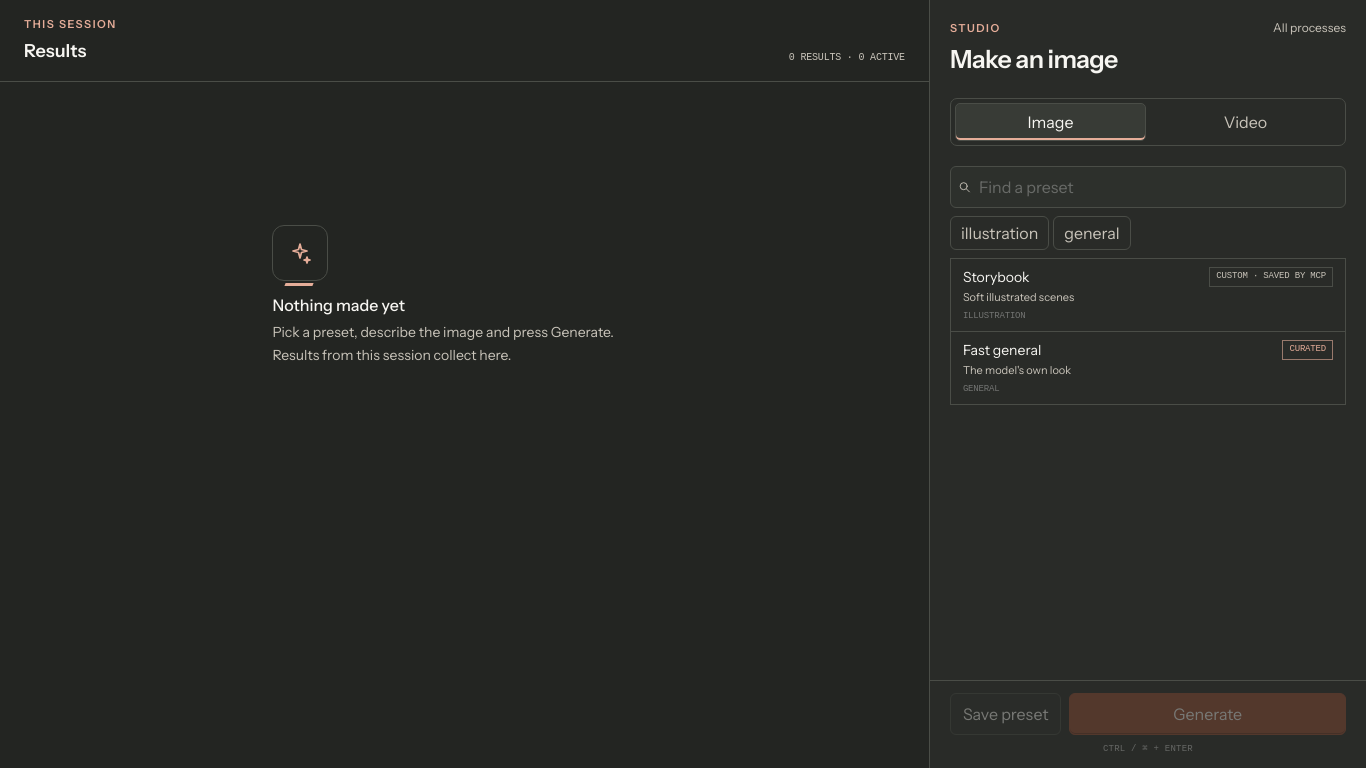
Test: the Studio › a change is shown as customized and Reset restores the preset revision
This screenshot has width=1366, height=768.
Click the option "Storybook": [996, 277] box [951, 259, 1345, 332]
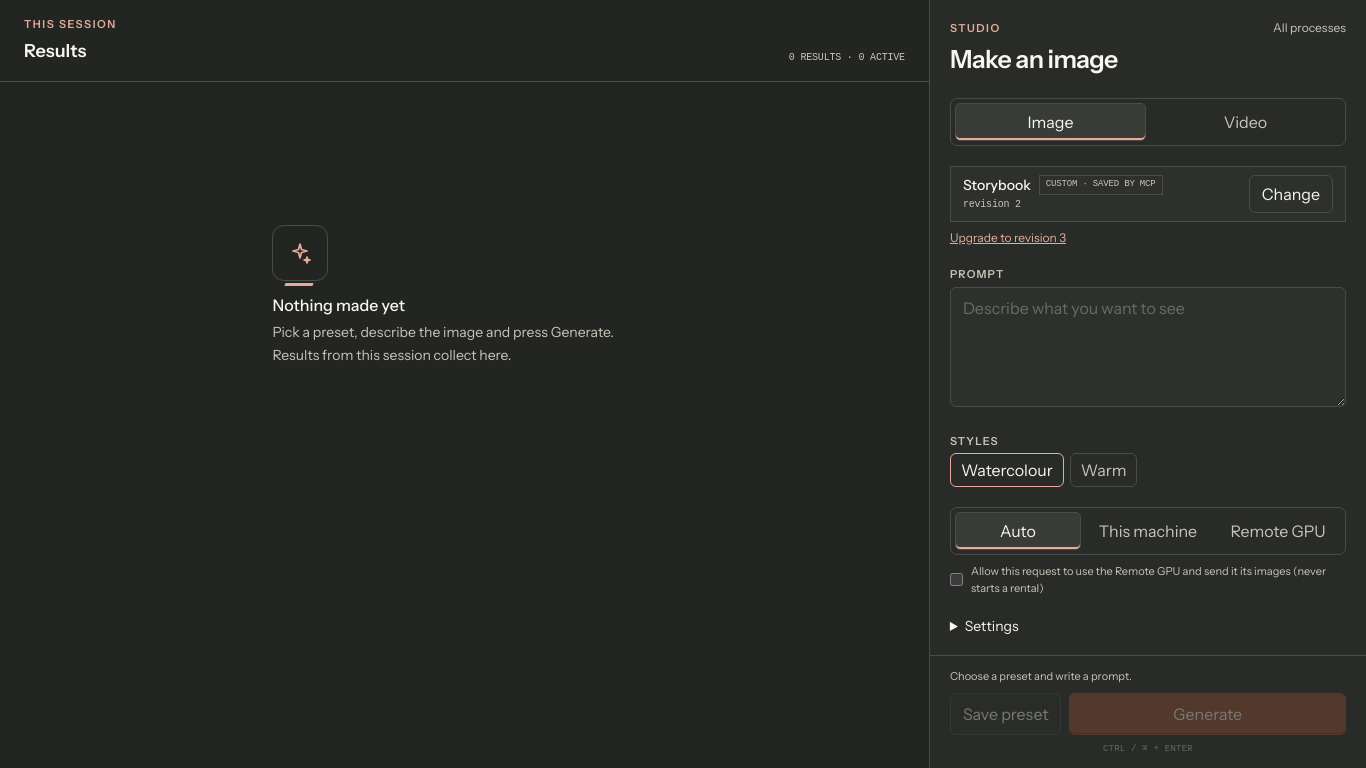
Click the button "Warm": [1104, 470] box [1070, 453, 1138, 487]
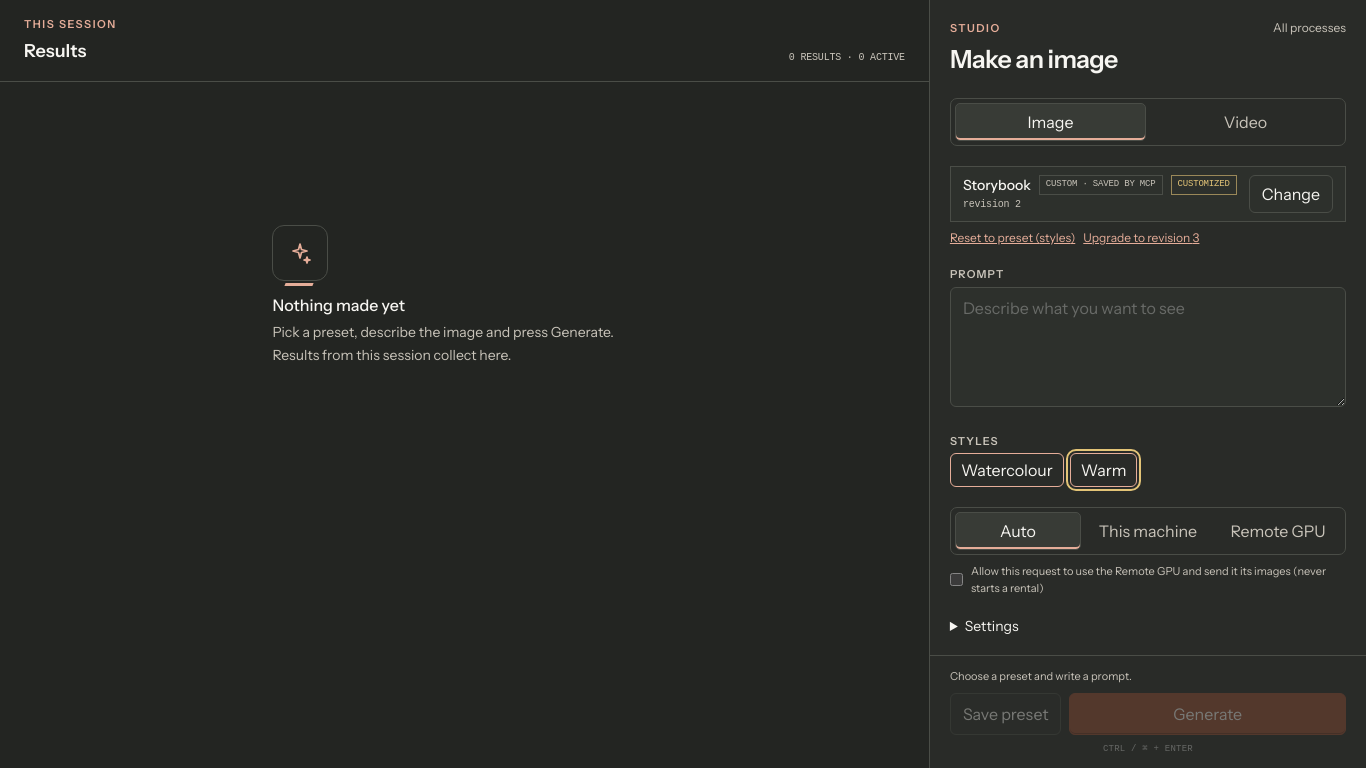
Expected: the text "Customized" is shown, [1170, 175, 1237, 195]
Click the button "Reset to preset (styles)": [1013, 238] box [950, 230, 1075, 246]
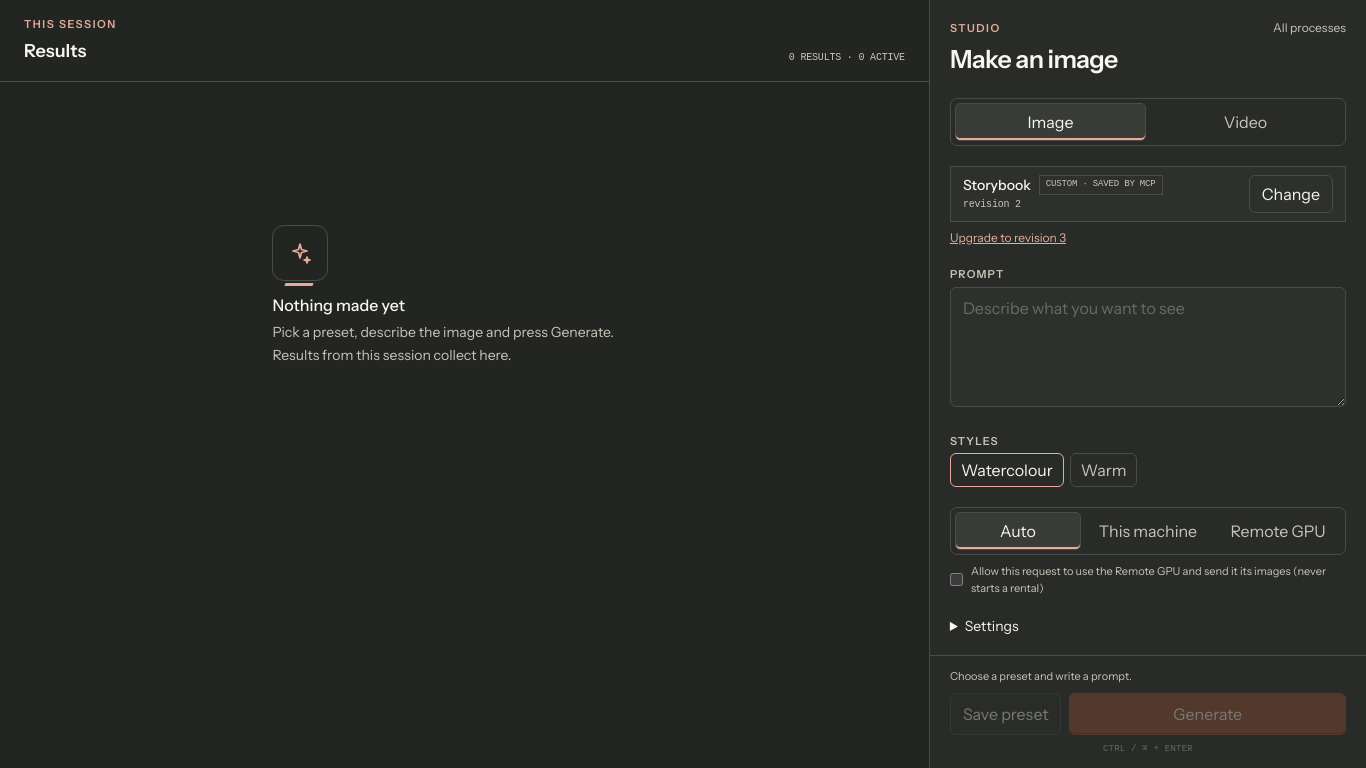
Expected: the text with test id "customized" is gone
